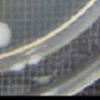white: (0, 18, 12, 52), (27, 52, 45, 69), (11, 60, 28, 75)
